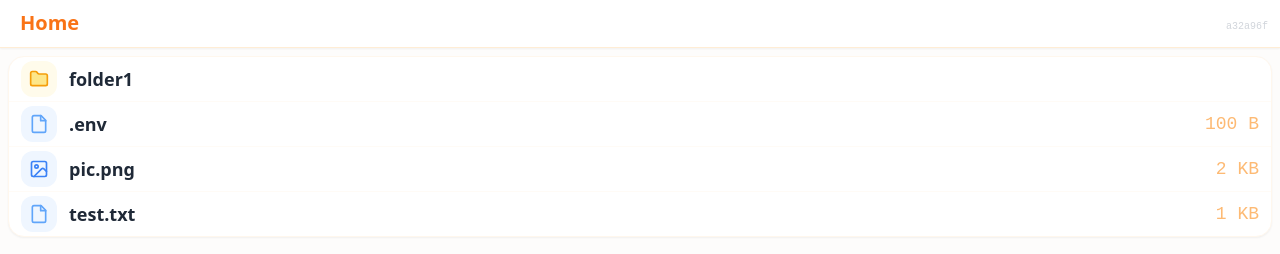
allows browsing hidden files like .env
// 點擊檔名以外的容器部分以觸發內容讀取
Click the element showing ".env": (88, 124) x1=69 y1=112 x2=107 y2=136
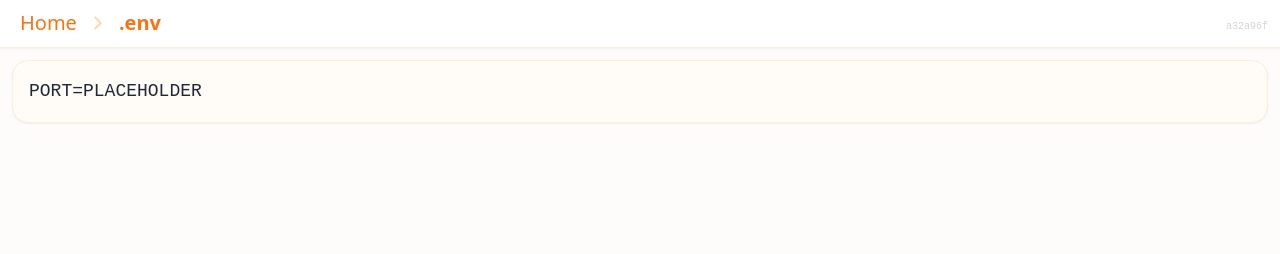
Expected: the text "PORT=PLACEHOLDER" is shown, x1=12 y1=60 x2=1268 y2=123
